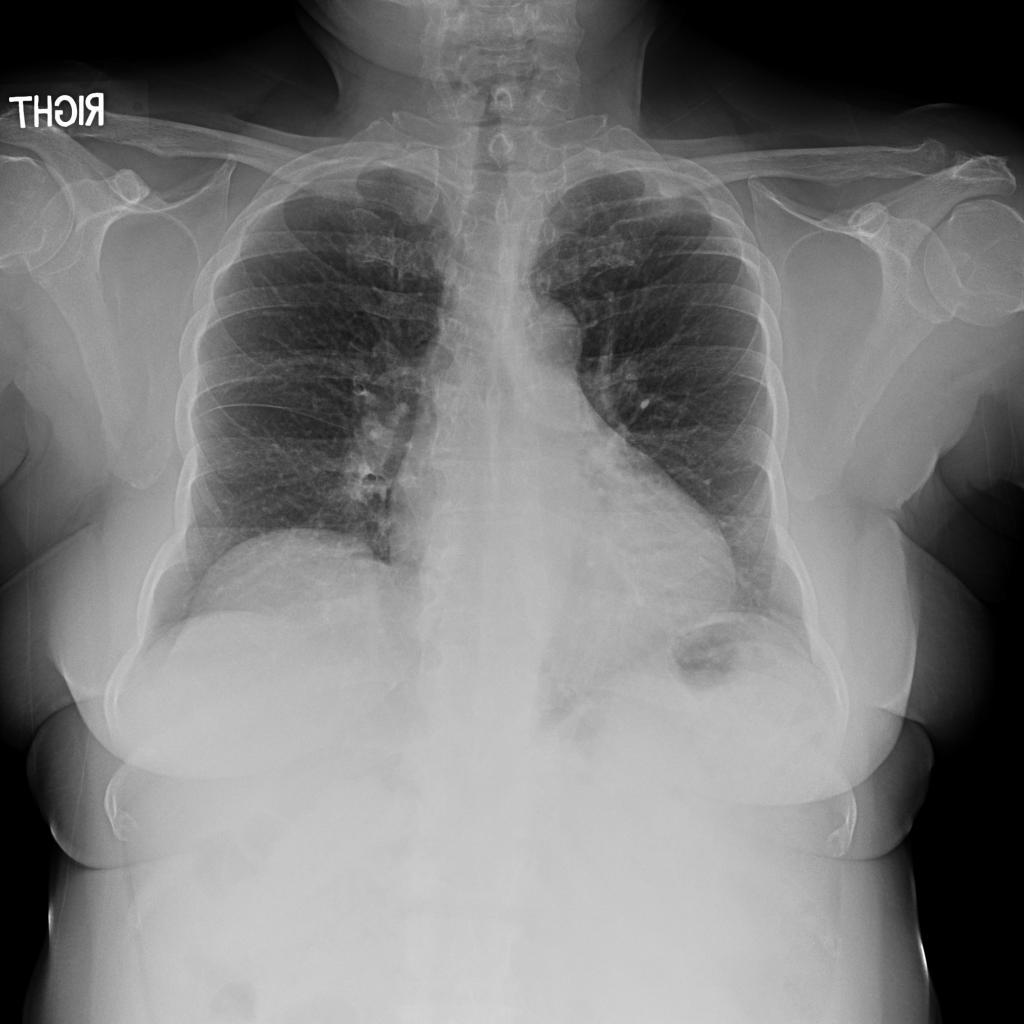Nodule: (136, 183, 169, 223), (131, 144, 144, 163)
